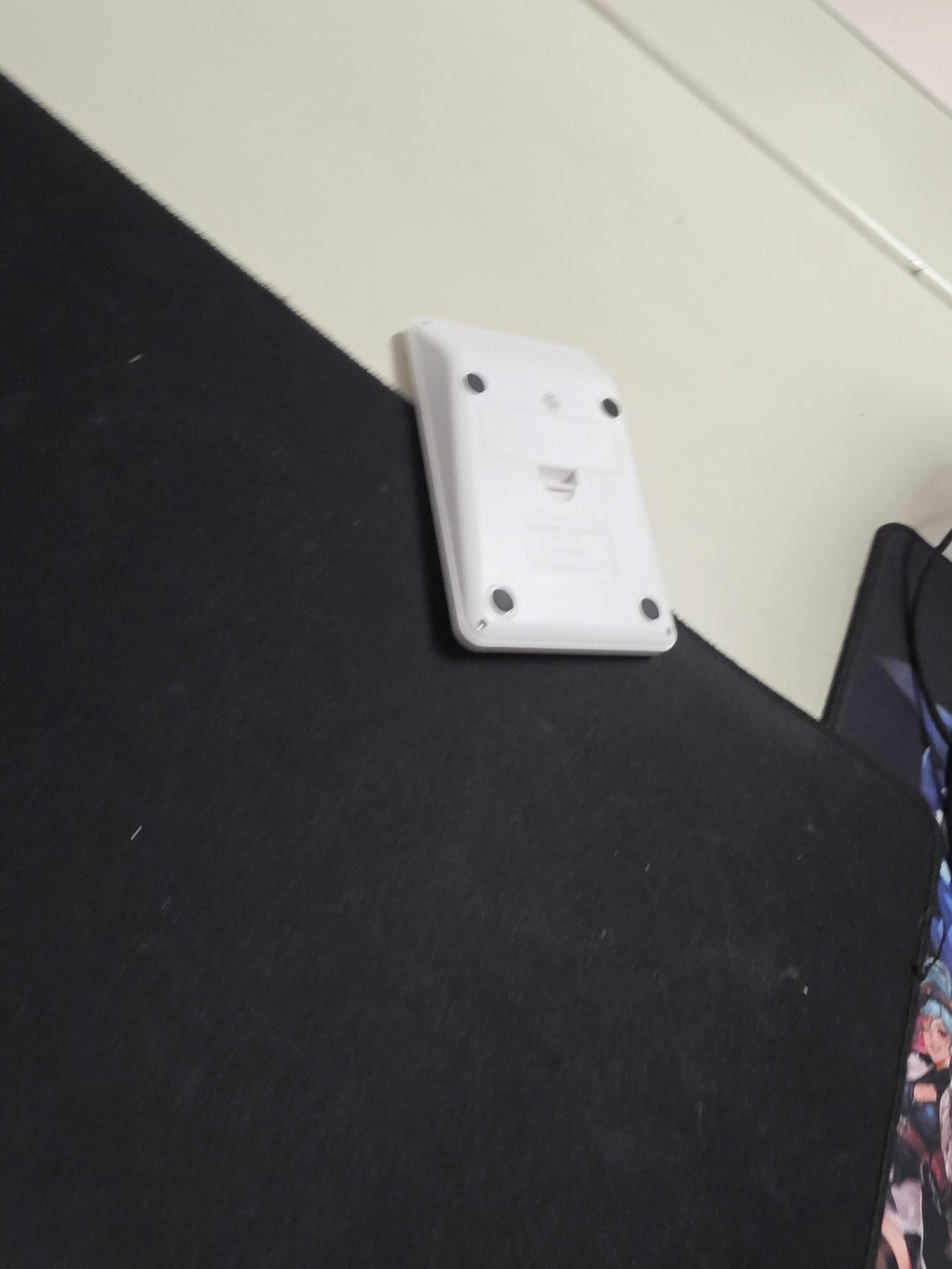calculator: (391, 315, 679, 658)
